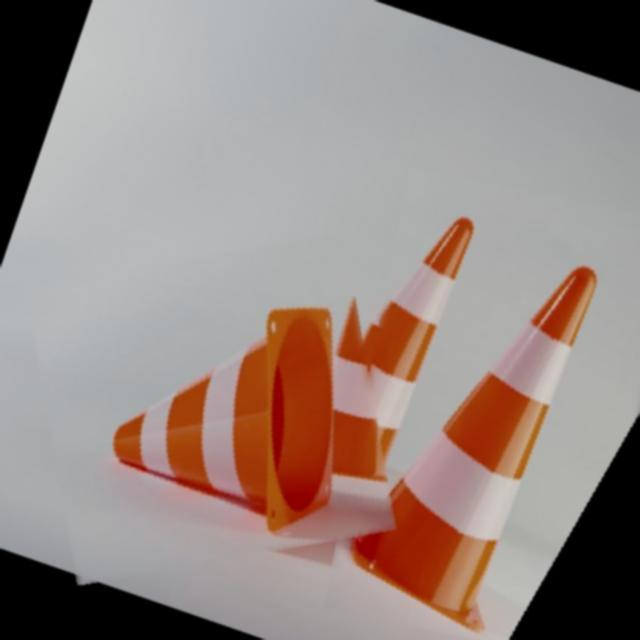traffic cone: (351, 261, 601, 633)
